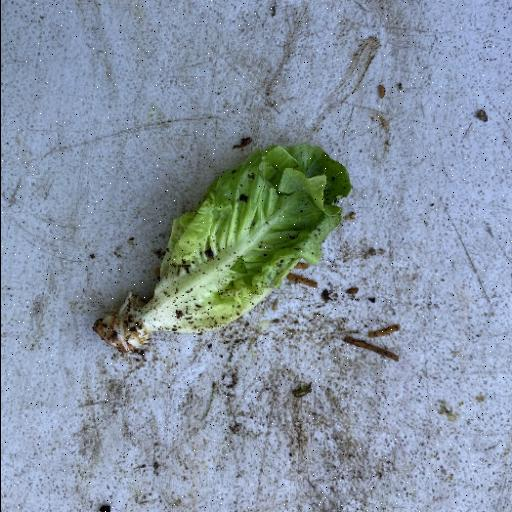Waste: (90, 140, 353, 354)
